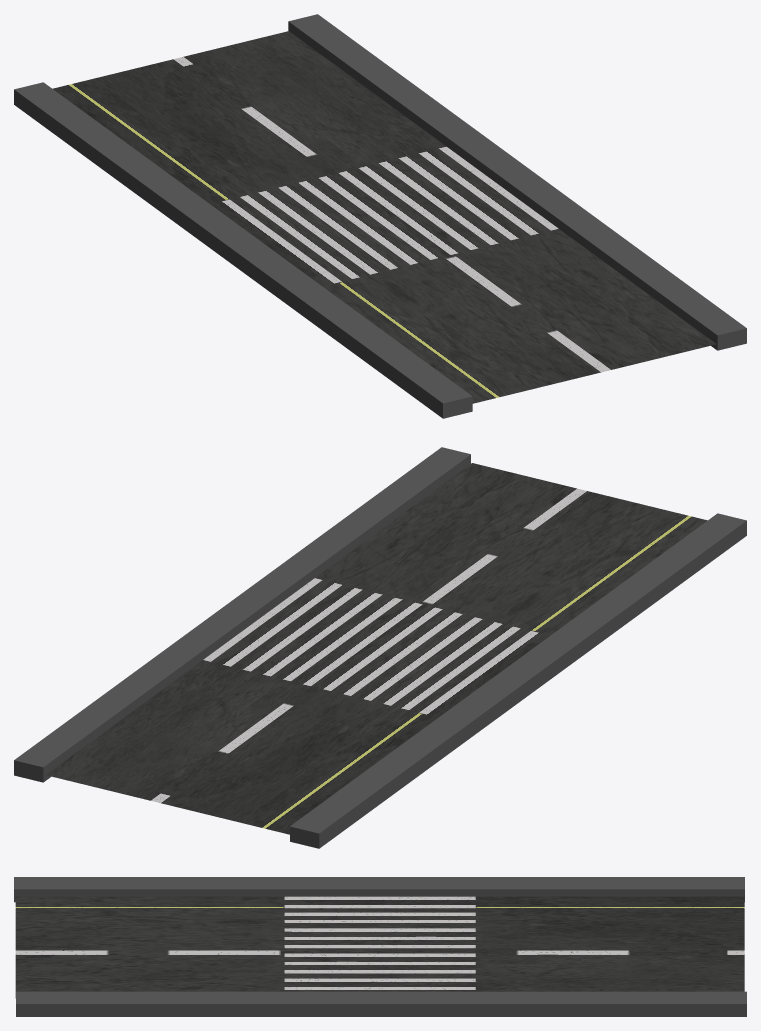
The model's file is 2-Lane-Pedestrian_RIGHT.fbx.
The picture shows the model from 3 angles, top to bottom: view 1: azimuth 30°, elevation 25°; view 2: azimuth 150°, elevation 25°; view 3: azimuth 270°, elevation 25°; orthographic projection. The views are drawn at different scales.
Parts seen in each view (by area): view 1: polySurface36, pCube45, pCube44; view 2: polySurface36, pCube45, pCube44; view 3: polySurface36, pCube44, pCube45.
Boxes of the visible parts, box(x1,y1,x2,y2) form: polySurface36: box(52, 31, 716, 403); pCube45: box(14, 82, 472, 418); pCube44: box(288, 14, 746, 350); polySurface36: box(46, 463, 707, 834); pCube45: box(290, 513, 746, 848); pCube44: box(14, 447, 470, 782); polySurface36: box(15, 896, 744, 998); pCube44: box(16, 991, 746, 1016); pCube45: box(14, 877, 744, 902).
Size of the model in its own units: 39.21 by 1.88 by 95.81.
2 materials, 1 textured.
